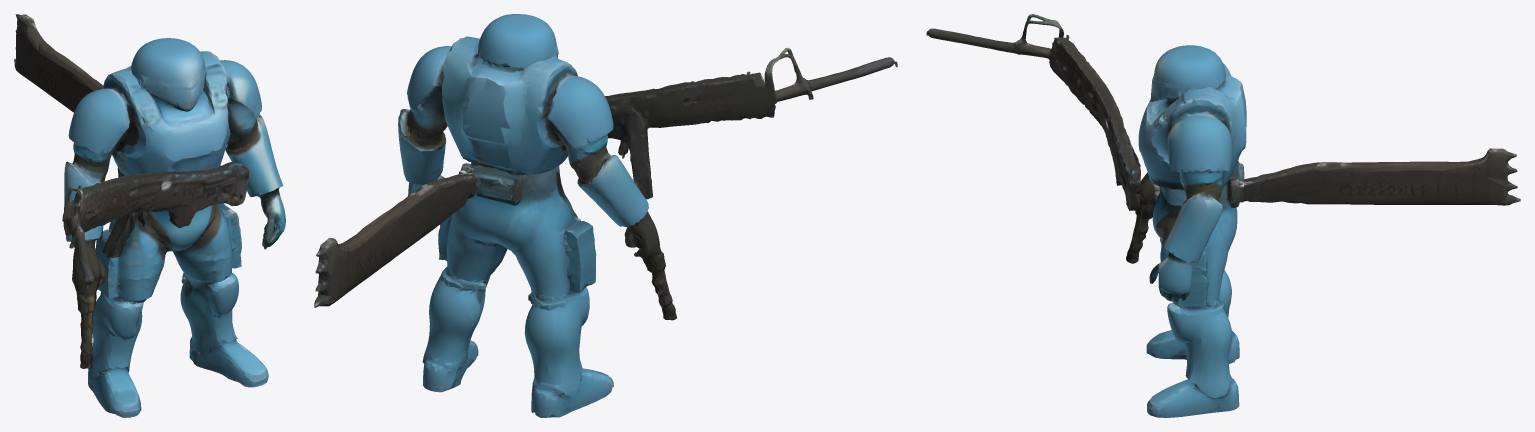
Rendered from soldado.glb.
3 renders of one model, left to right at view 1: azimuth 30°, elevation 25°; view 2: azimuth 150°, elevation 25°; view 3: azimuth 270°, elevation 25°, orthographic. The views are drawn at different scales.
Parts seen in each view (by area): view 1: soldado; view 2: soldado; view 3: soldado.
Boxes of the visible parts, bbox=[...] form: soldado: bbox=[14, 14, 285, 417]; soldado: bbox=[314, 14, 897, 417]; soldado: bbox=[926, 14, 1520, 417].
Bounding box in the file's own units: 1.14 × 1.13 × 1.87.
Materials: 1 (1 with a texture image).
